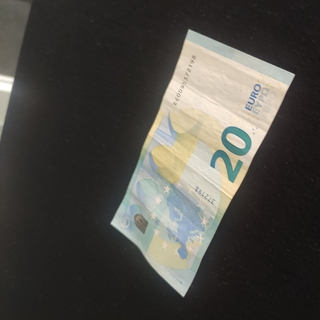20EUROBack: (110, 28, 296, 298)
